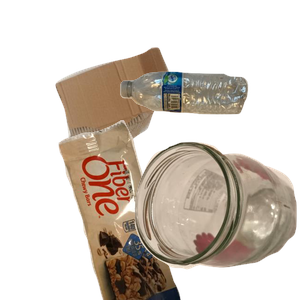cardboard: (53, 45, 221, 204)
glass: (132, 139, 300, 300)
plastic: (118, 69, 300, 176)
trash: (56, 120, 229, 300)
